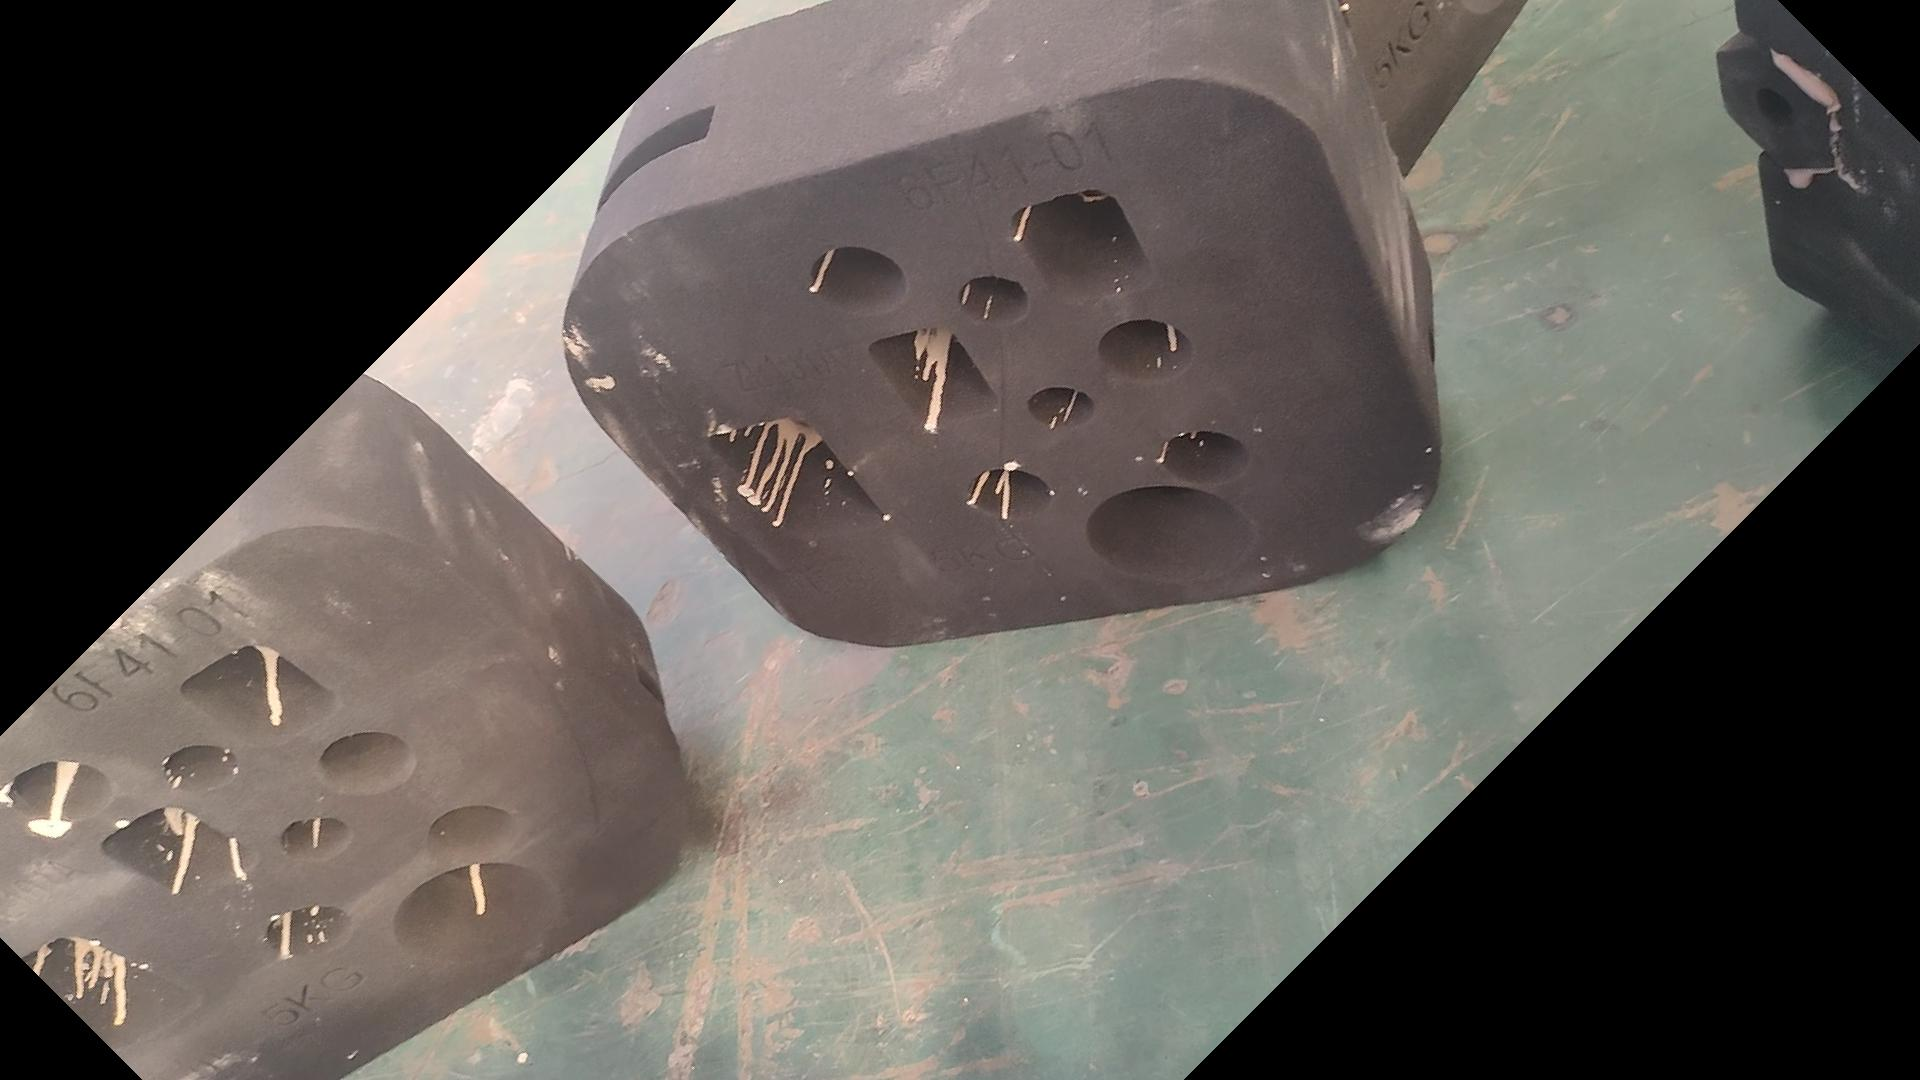pouring hole: (390, 861, 558, 961), (1084, 485, 1251, 582)
